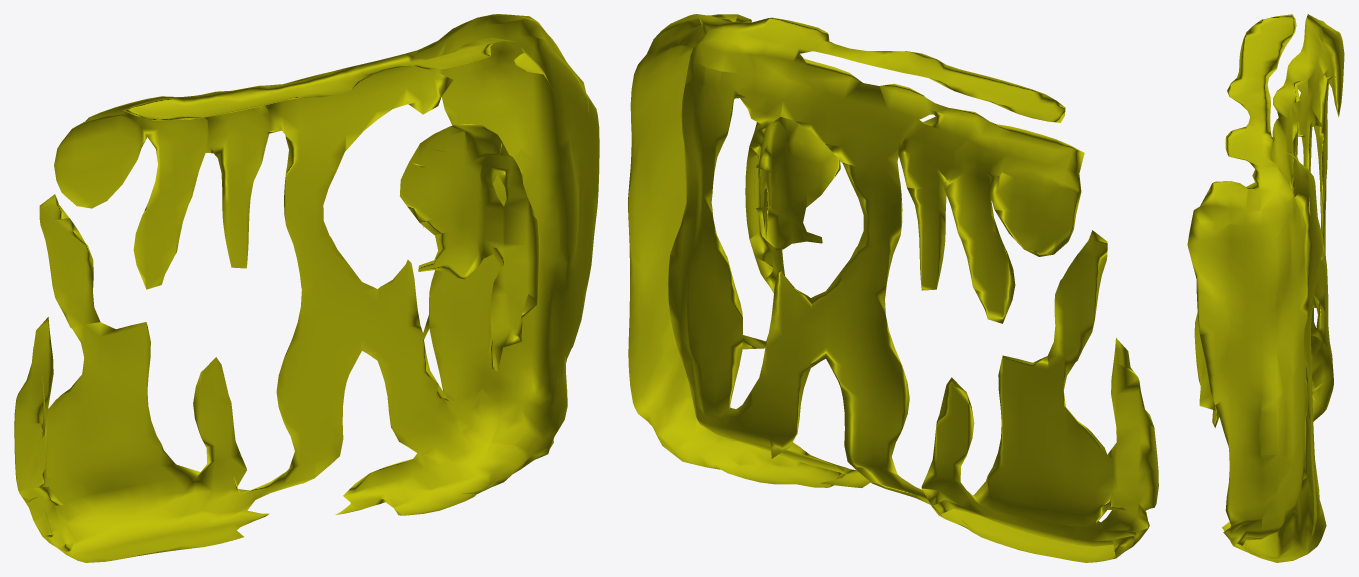
3 renders of one model, left to right at view 1: azimuth 30°, elevation 25°; view 2: azimuth 150°, elevation 25°; view 3: azimuth 270°, elevation 25°, orthographic. The views are drawn at different scales.
Parts seen in each view (by area): view 1: world; view 2: world; view 3: world.
Part boxes in pixels (<box>): world: <box>14,14,599,562</box>; world: <box>628,14,1158,562</box>; world: <box>1187,14,1344,562</box>.
Size of the model in its own units: 35.52 by 28.67 by 10.17.
